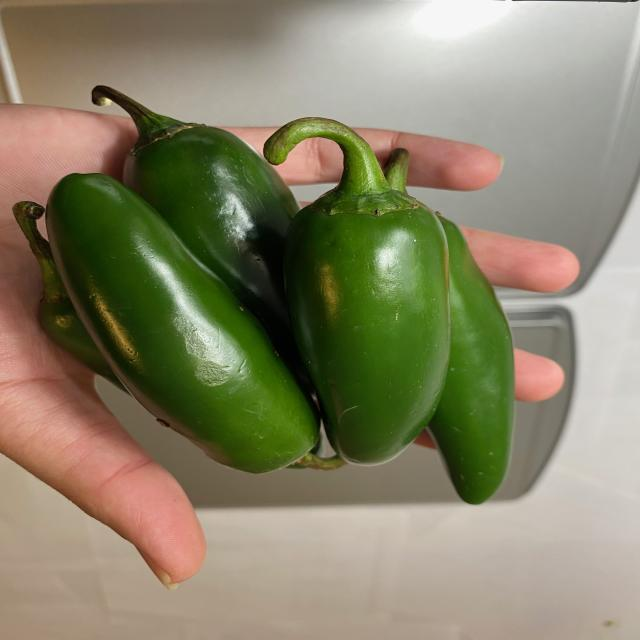chilli: (12, 74, 513, 511)
